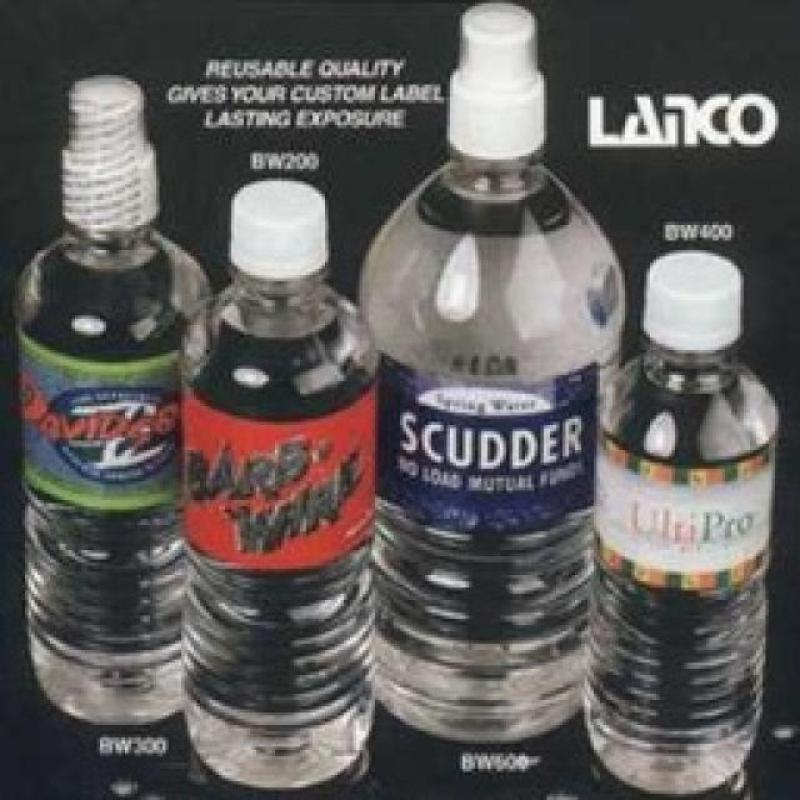botella: (358, 7, 627, 745), (17, 75, 214, 725), (180, 176, 372, 792), (586, 253, 783, 797)
